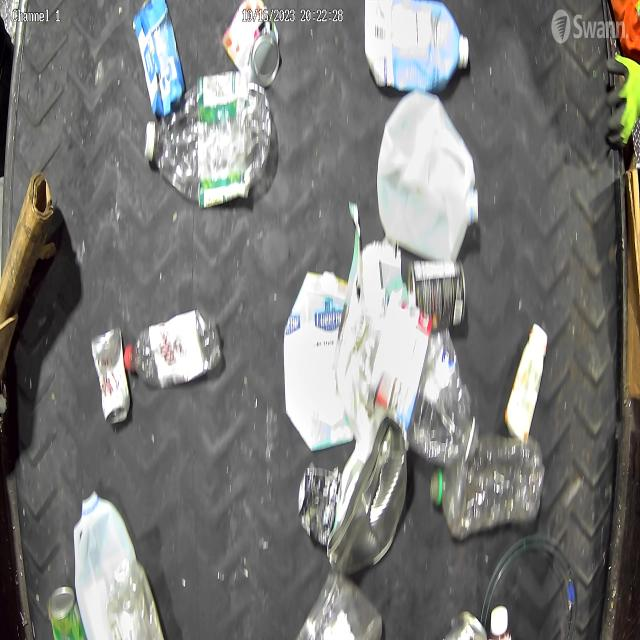can: (326, 416, 409, 574), (222, 0, 282, 88), (91, 326, 131, 427), (407, 259, 466, 325), (298, 465, 341, 545), (48, 586, 87, 640)
milk_jug: (376, 92, 479, 264), (74, 488, 139, 640), (106, 556, 166, 640)
non_white_jug: (364, 0, 470, 93)
plastic_bottle: (144, 73, 272, 208), (358, 328, 480, 462), (429, 435, 545, 539), (123, 307, 223, 386)
